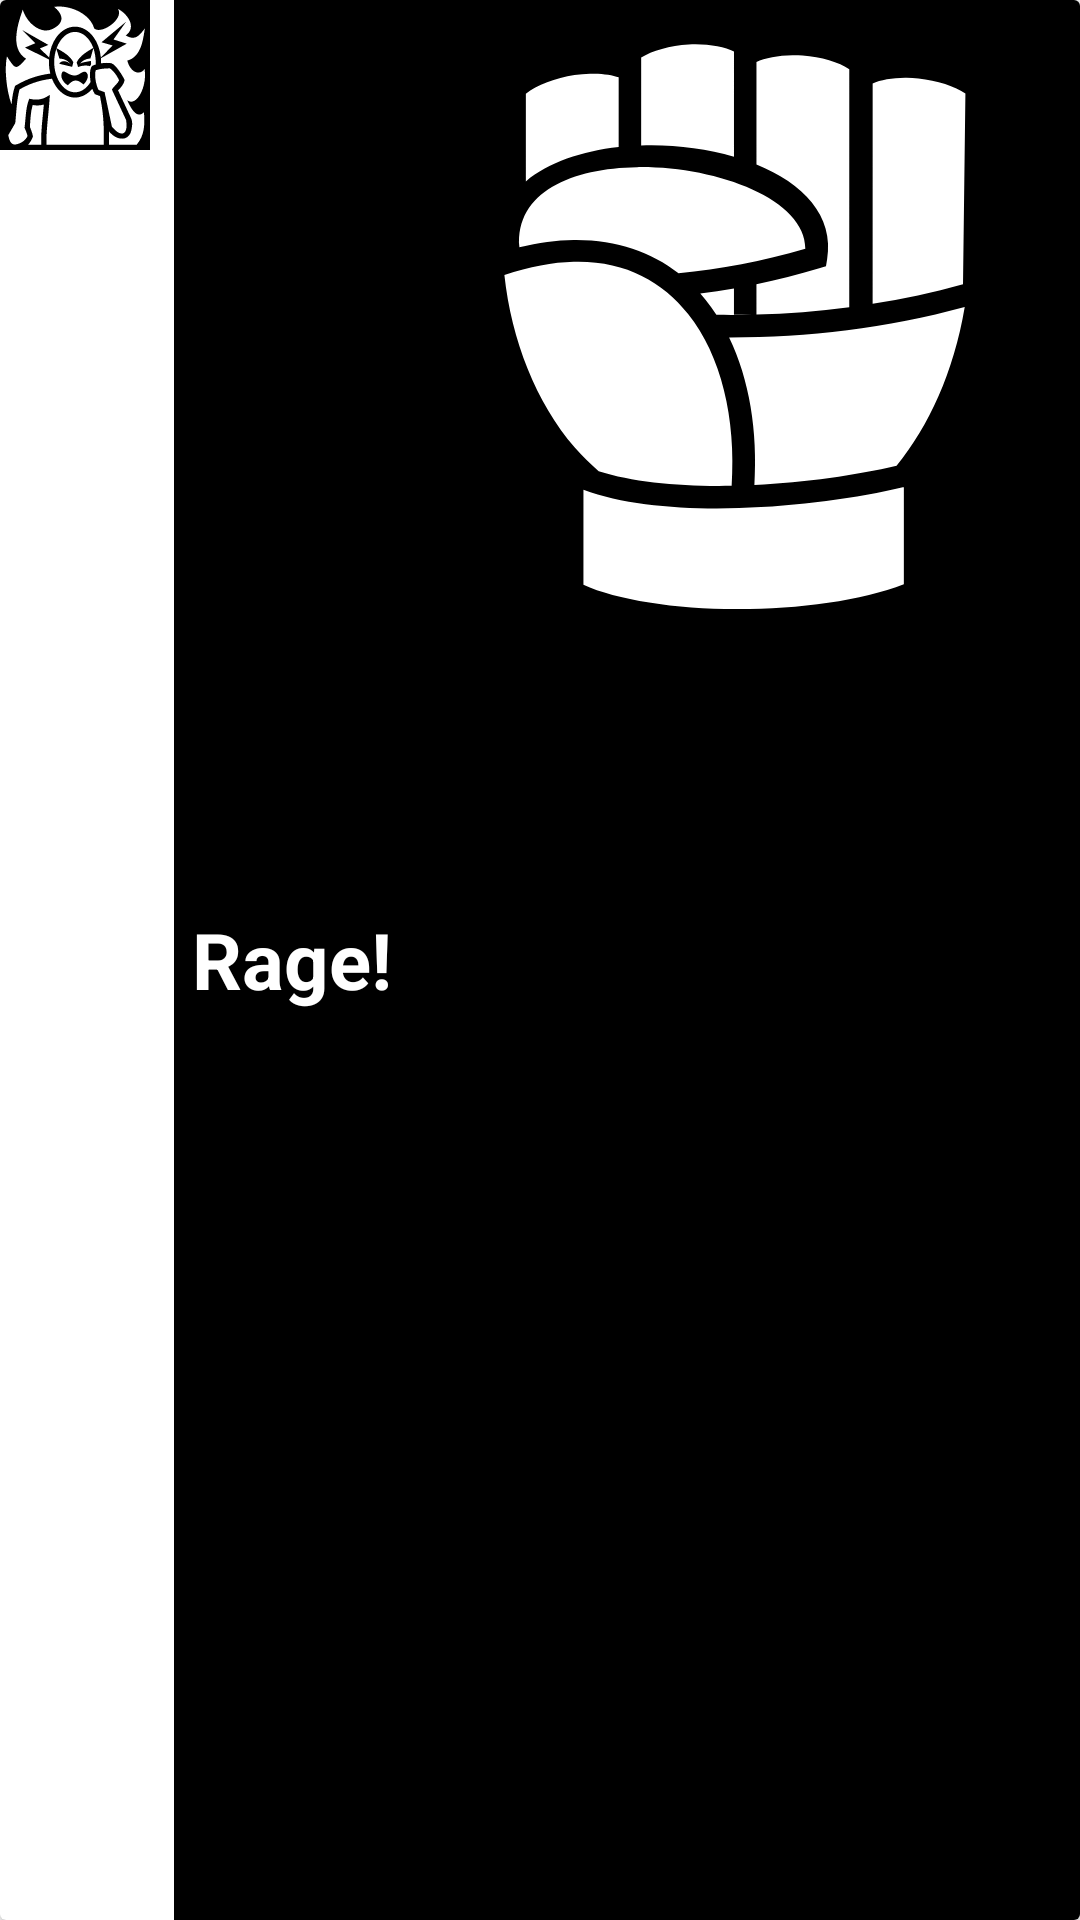

Icon bounding boxes for this 1080px×1920px phone screenshot, format (x1, y1, x2, y2):
enrage: (0, 0, 150, 150)
